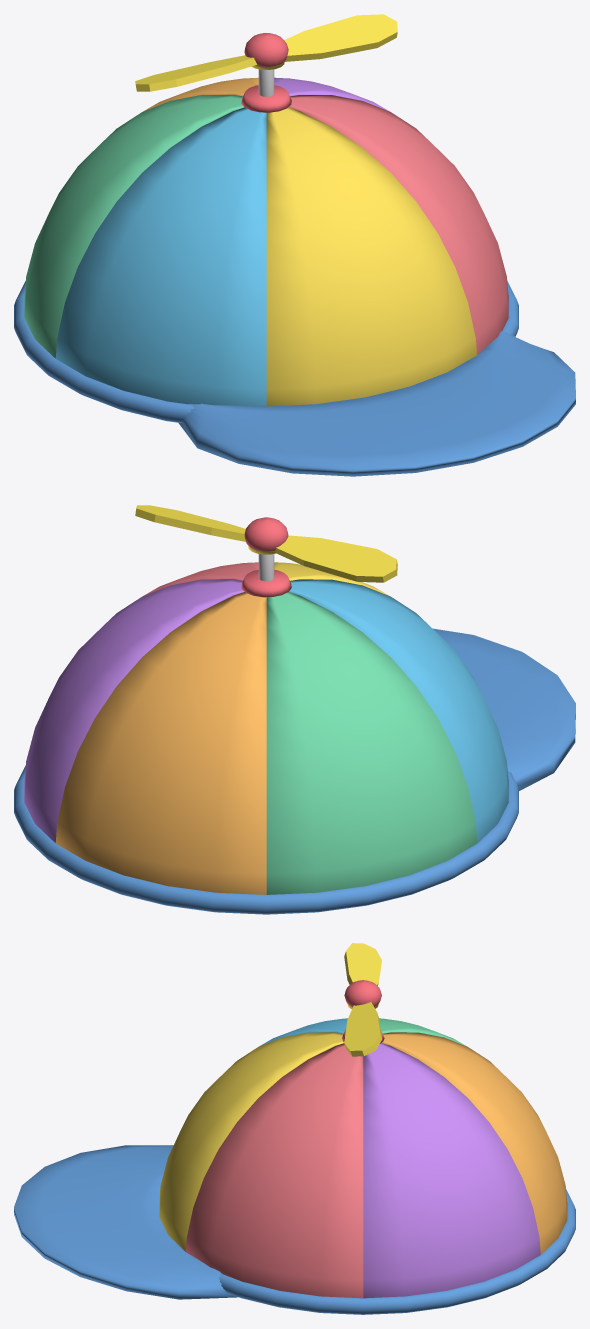
File: chapeu_helice.glb
The picture shows the model from 3 angles, top to bottom: view 1: azimuth 30°, elevation 25°; view 2: azimuth 150°, elevation 25°; view 3: azimuth 270°, elevation 25°; orthographic projection. The views are drawn at different scales.
Visible parts, largest first — view 1: Bone_Base, Helice; view 2: Bone_Base, Helice; view 3: Bone_Base, Helice.
Part boxes in pixels (x1,y1,x2,y2): Bone_Base: (14, 69, 575, 476); Helice: (135, 14, 397, 91); Bone_Base: (14, 554, 575, 914); Helice: (135, 505, 397, 582); Bone_Base: (14, 1018, 575, 1314); Helice: (344, 943, 381, 1056).
Size of the model in its own units: 1.05 by 0.6734 by 1.38.
